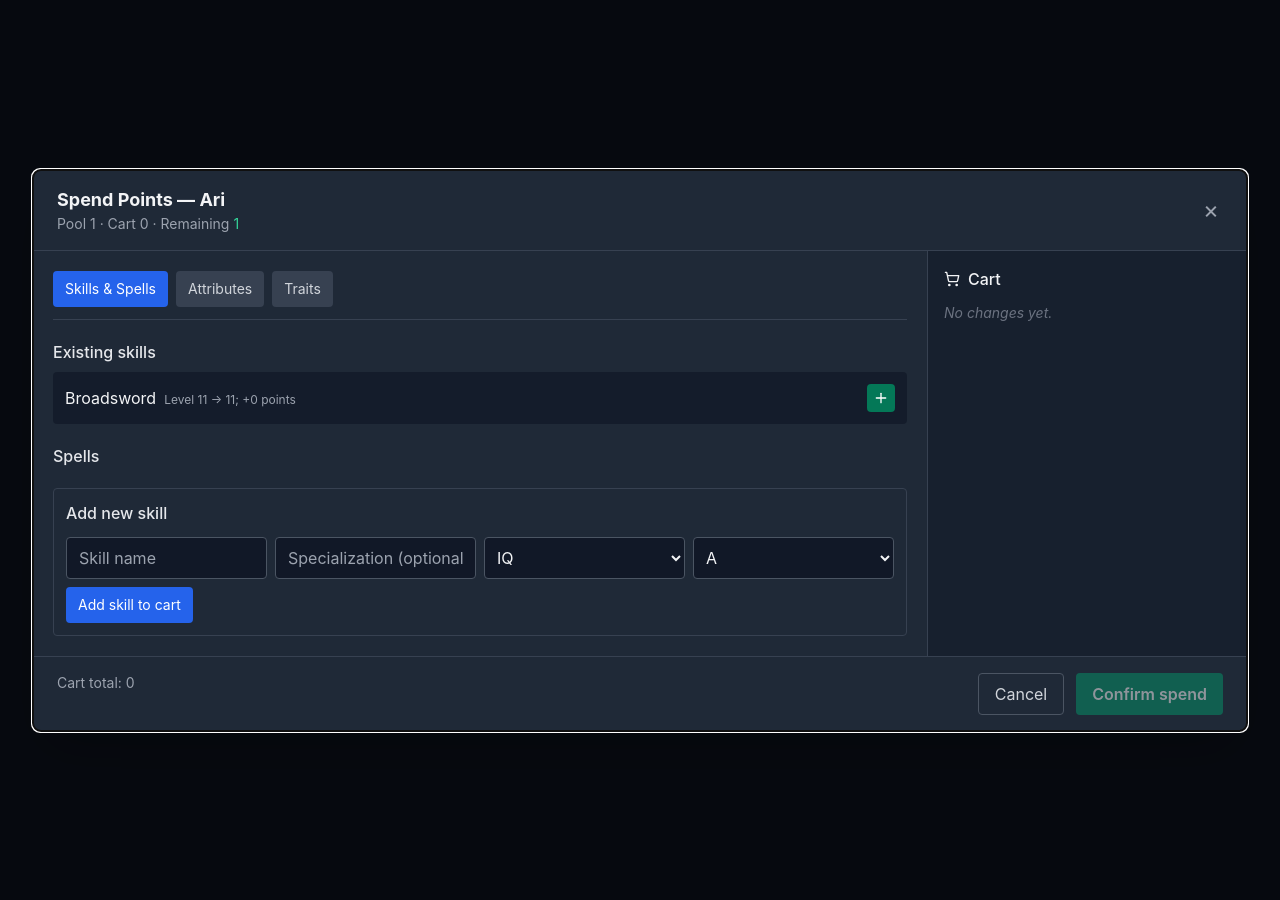
Test: PointSpendModal › blocks confirmation when the cart exceeds the pool
What coordinates should you click on to do the following:
click the button "Attributes"
I would click on:
 (220, 288)
Its box is left=176, top=270, right=264, bottom=306.
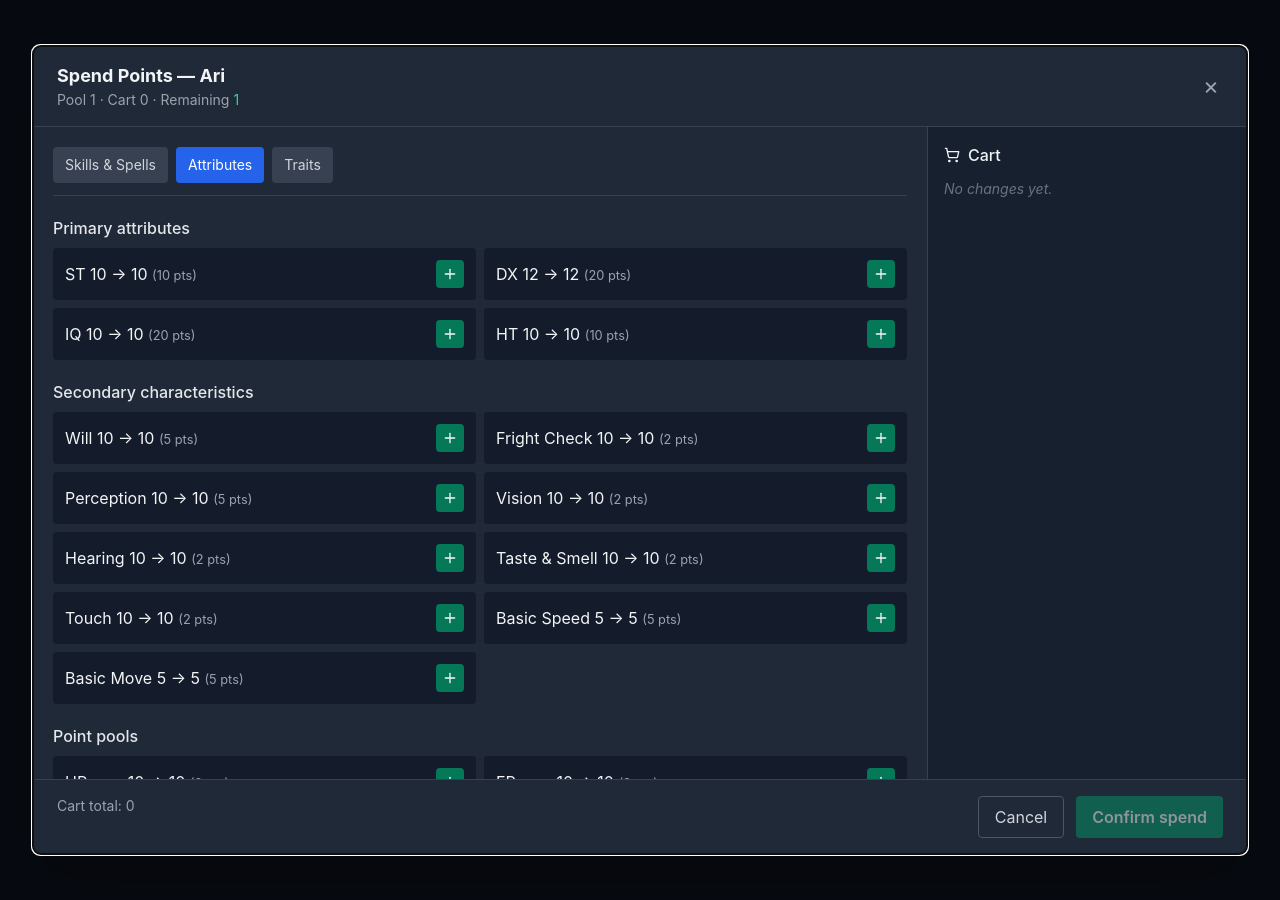
What coordinates should you click on to do the following:
click the button with test id "add-attribute-DX"
I would click on:
 (881, 274)
Its box is left=867, top=260, right=895, bottom=288.
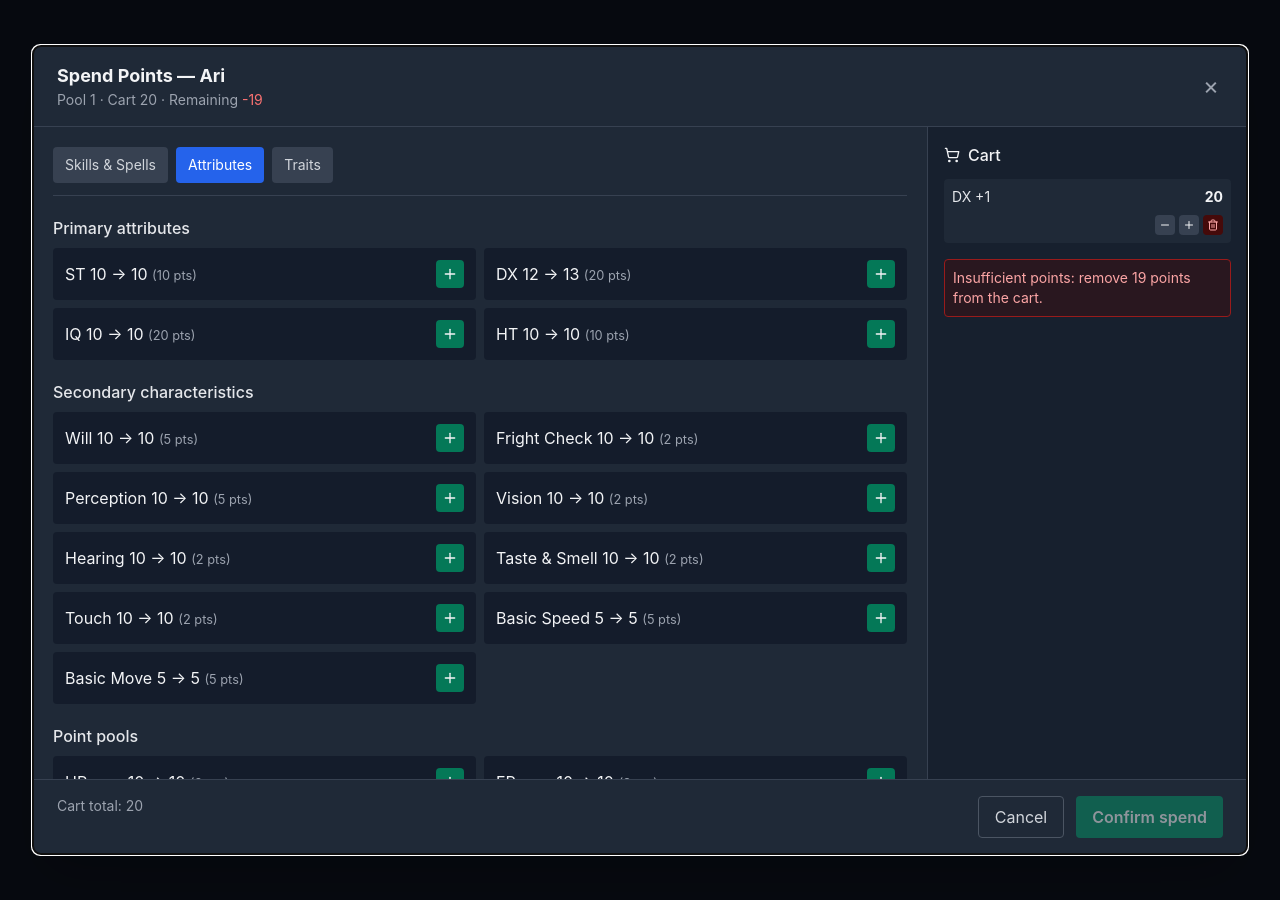
Expected: the button with test id "confirm-spend-button" is disabled, left=1076, top=796, right=1223, bottom=838
Now the text "Insufficient points: remove 19 points from the cart." is shown, box left=944, top=259, right=1231, bottom=317
